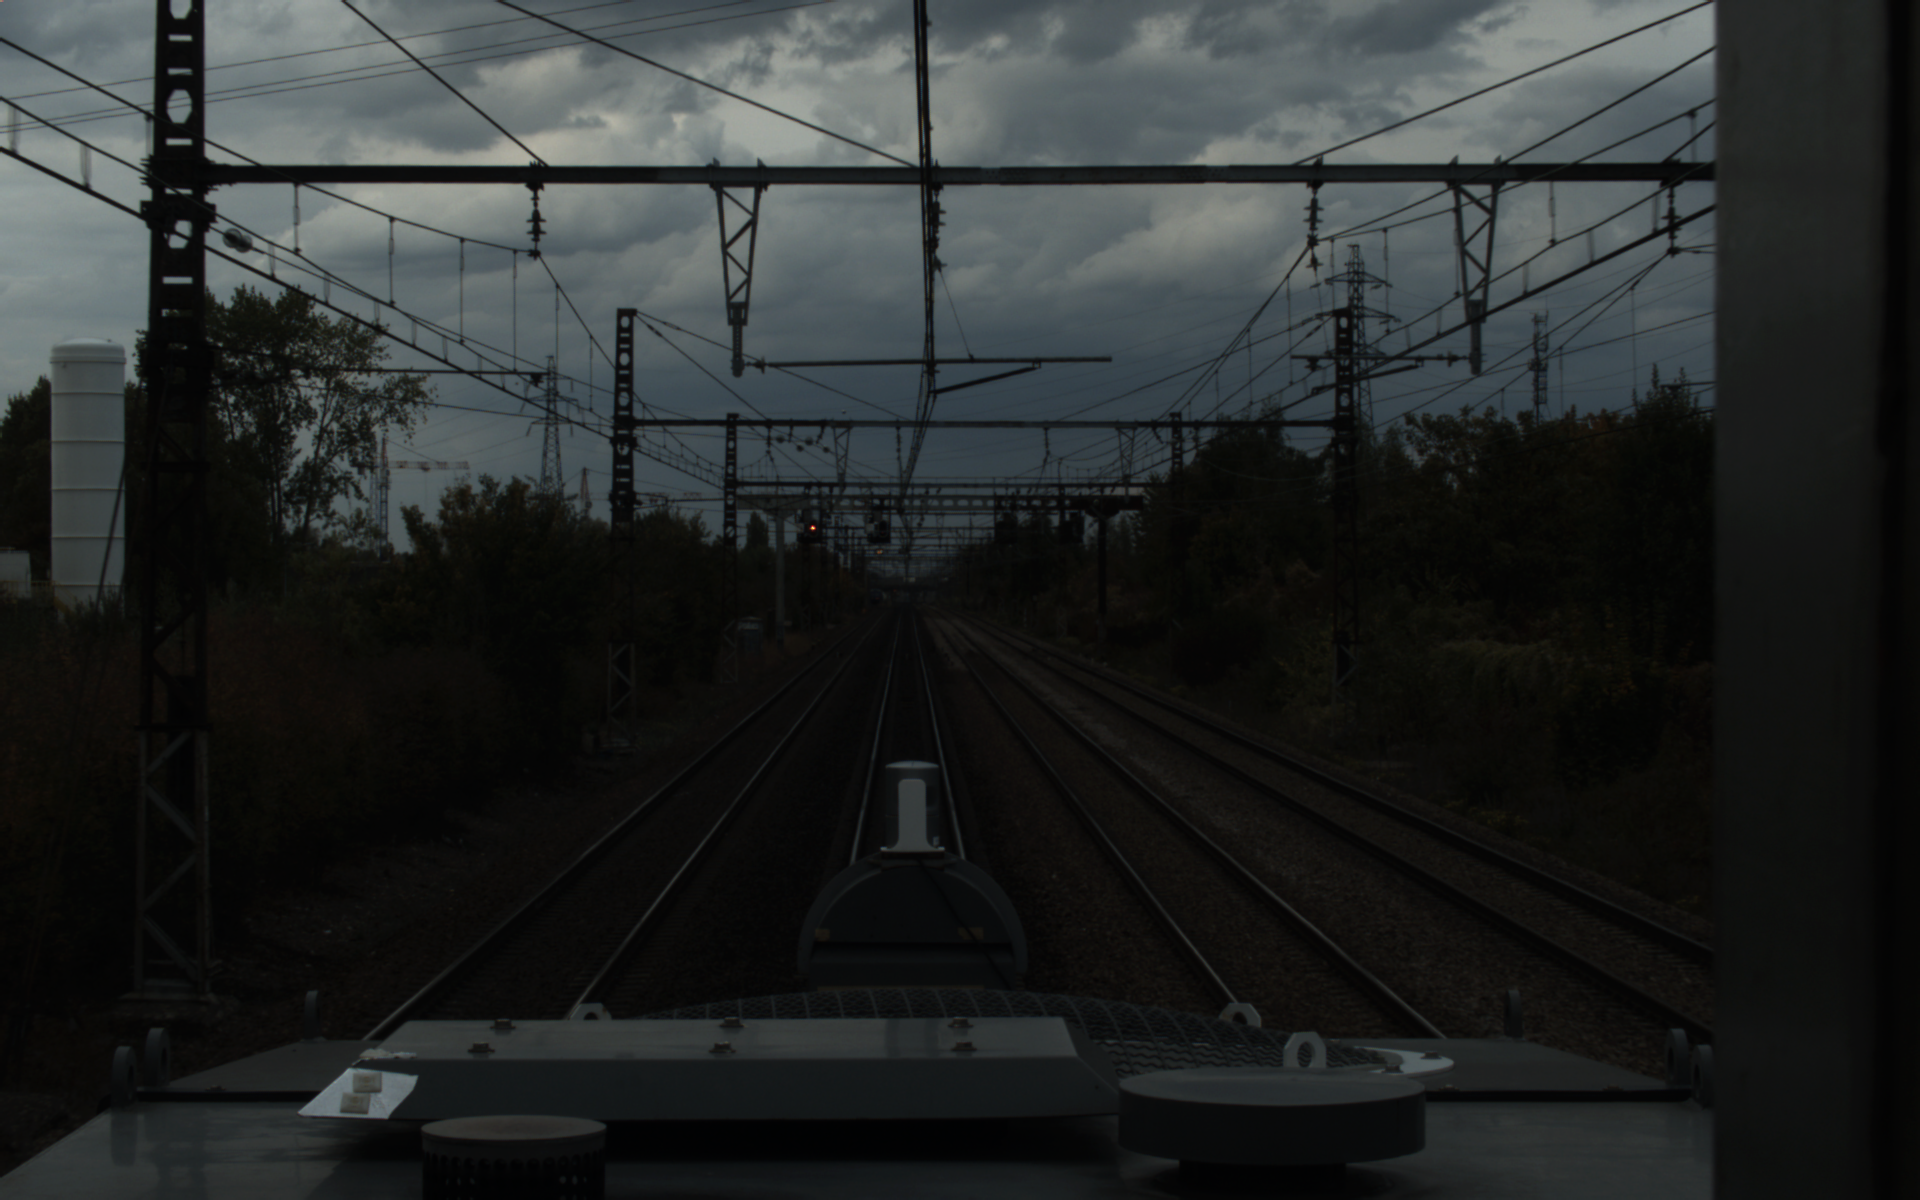Blinking: (876, 518, 889, 539)
Fixed: (804, 516, 820, 539)
